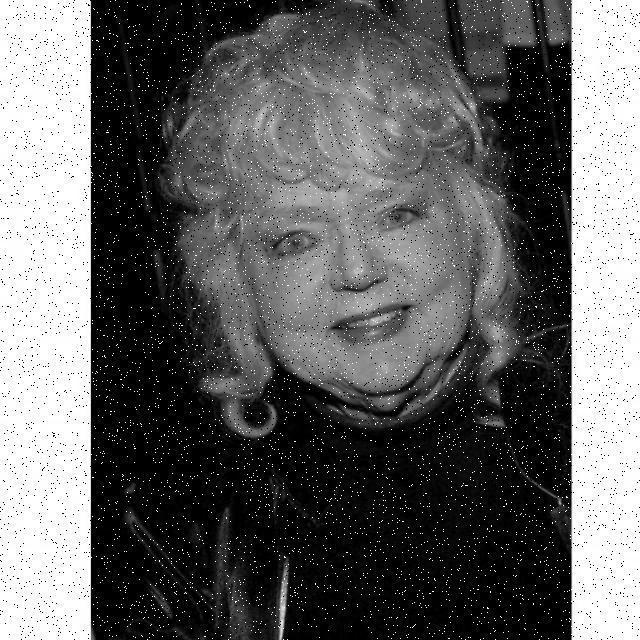real: (229, 83, 480, 406)
